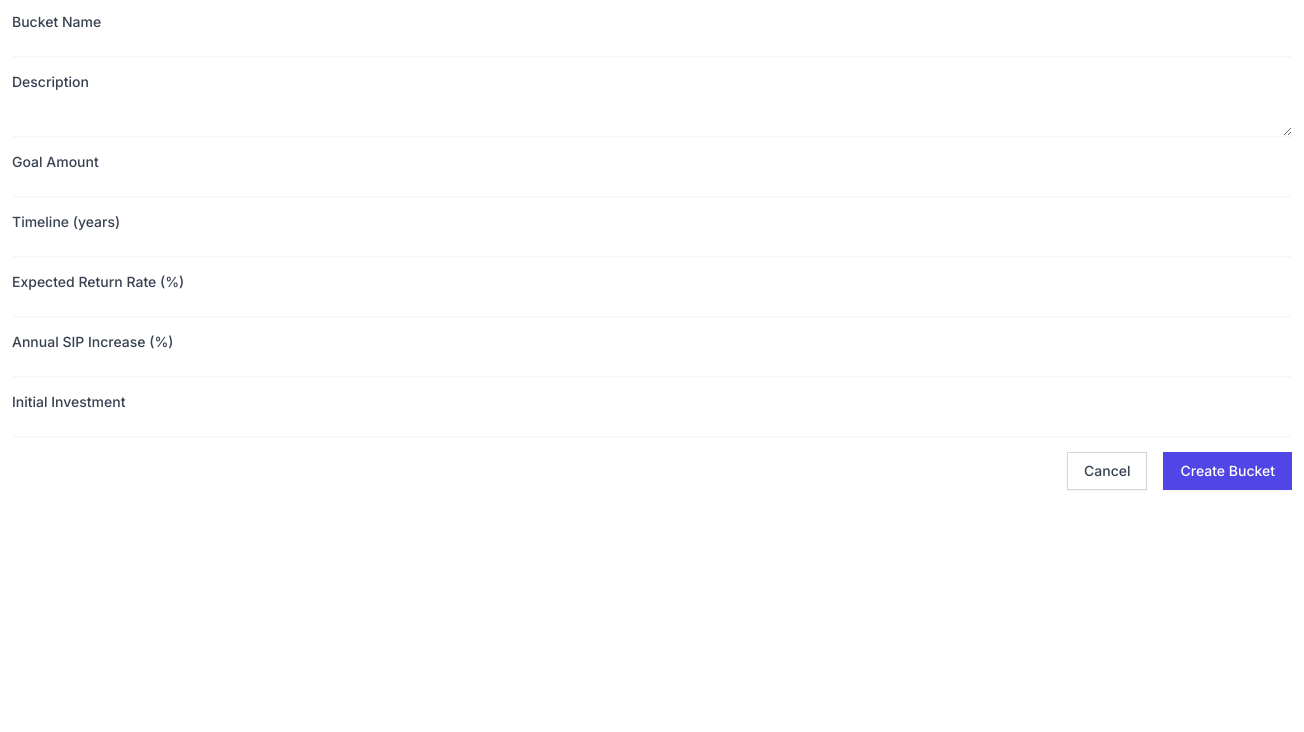
Test: BucketCreationForm › shows validation errors for required fields
# Submit empty form
Click the button "Create Bucket" at [1228, 471], box [1164,452,1292,490]
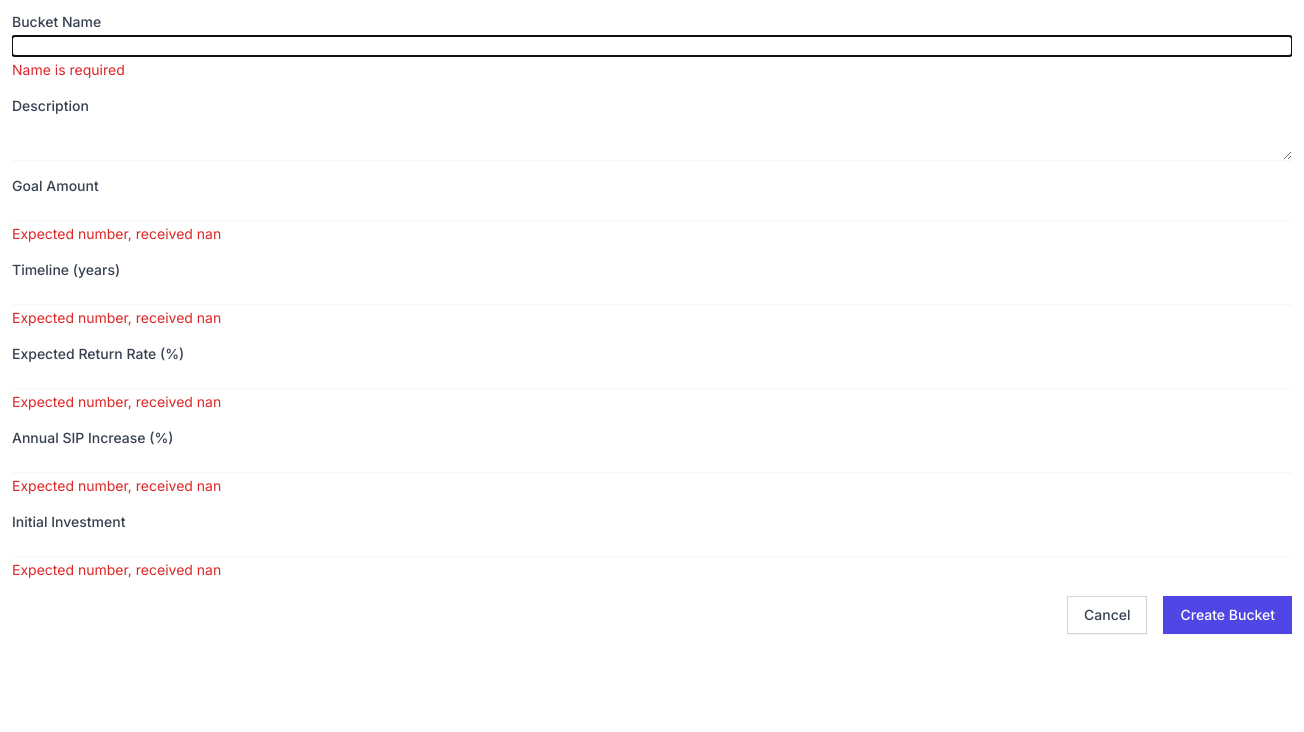
Expected: the text "Name is required" is shown, [12,61,125,78]
Expected: the text "Expected number, received nan" is shown 5 times, [12,225,221,242]; [12,309,221,326]; [12,393,221,410]; [12,477,221,494]; [12,561,221,578]
